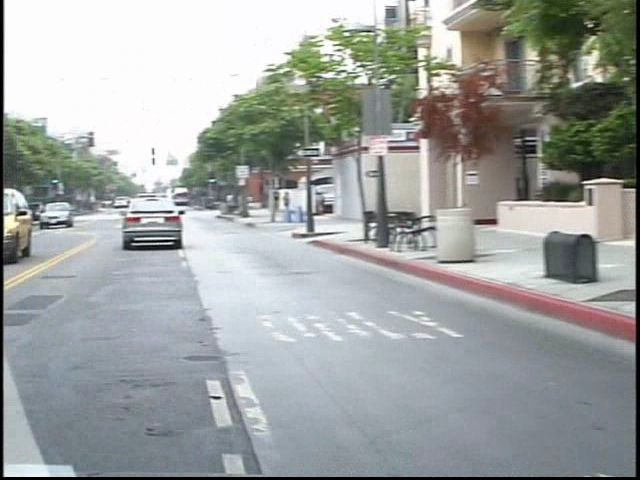person: (267, 187, 281, 221)
